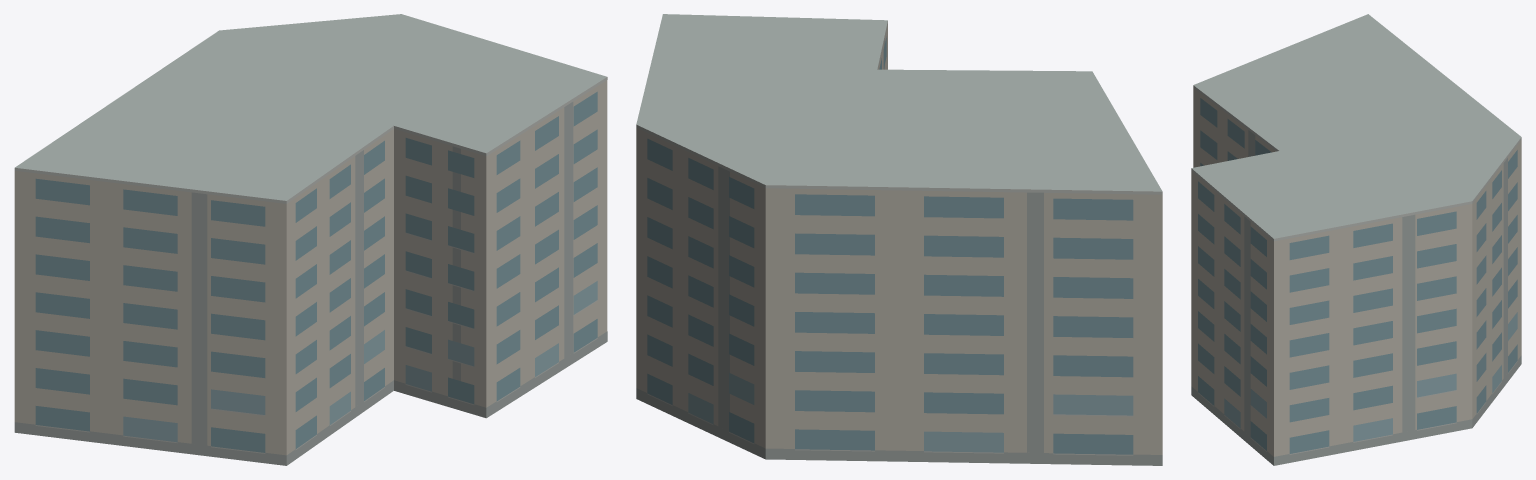
The model's file is survey-upis-32501713.glb.
3 renders of one model, left to right at view 1: azimuth 30°, elevation 25°; view 2: azimuth 150°, elevation 25°; view 3: azimuth 270°, elevation 25°, orthographic. The views are drawn at different scales.
Parts seen in each view (by area): view 1: survey-upis-32501713.tmp; view 2: survey-upis-32501713.tmp; view 3: survey-upis-32501713.tmp.
Boxes of the visible parts, box(x1,y1,x2,y2) form: survey-upis-32501713.tmp: box(14, 14, 607, 465); survey-upis-32501713.tmp: box(636, 14, 1162, 465); survey-upis-32501713.tmp: box(1191, 14, 1521, 465).
Size of the model in its own units: 45.36 by 21.35 by 28.16.
